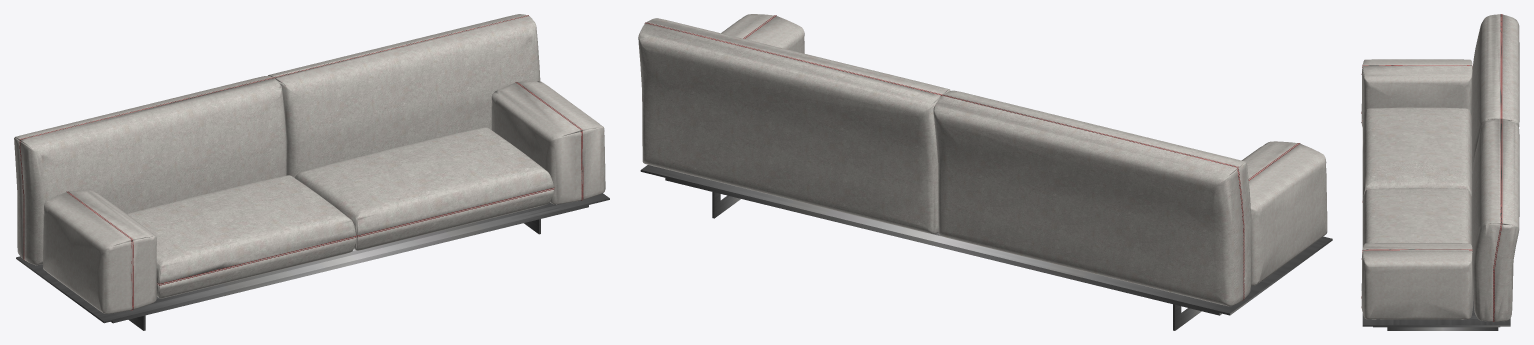
The model's file is sofa-modelo-duplo-king.glb.
3 renders of one model, left to right at view 1: azimuth 30°, elevation 25°; view 2: azimuth 150°, elevation 25°; view 3: azimuth 270°, elevation 25°, orthographic. The views are drawn at different scales.
Parts seen in each view (by area): view 1: Modelo Duplo King; view 2: Modelo Duplo King; view 3: Modelo Duplo King.
Part boxes in pixels (x1,y1,x2,y2): Modelo Duplo King: (14, 14, 609, 330); Modelo Duplo King: (638, 14, 1332, 330); Modelo Duplo King: (1361, 14, 1519, 330).
Size of the model in its own units: 2.72 by 0.7937 by 0.8689.
3 materials, 3 textured.
